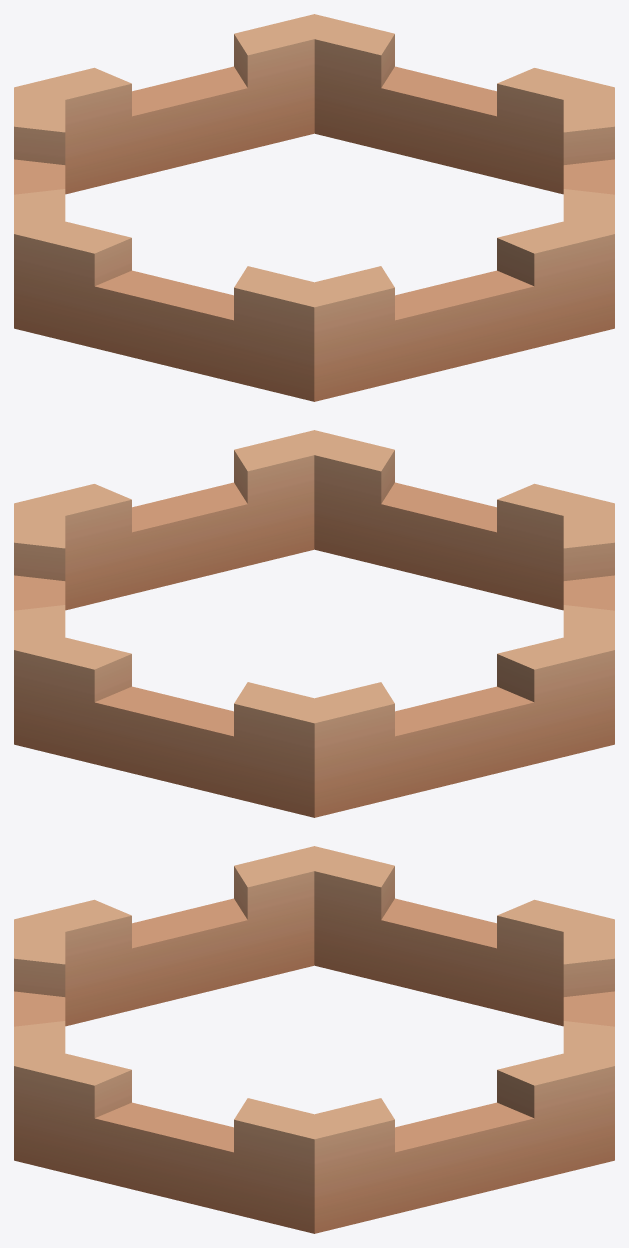
The model's file is kenney-castle-tower-hexagon-top.glb.
3 views of the same model, one above another, from view 1: azimuth 30°, elevation 25°; view 2: azimuth 150°, elevation 25°; view 3: azimuth 270°, elevation 25° (orthographic).
Visible parts, largest first — view 1: tower-hexagon-top; view 2: tower-hexagon-top; view 3: tower-hexagon-top.
Boxes of the visible parts, x1,y1,x2,y2 form: tower-hexagon-top: (14, 14, 614, 401); tower-hexagon-top: (14, 430, 614, 817); tower-hexagon-top: (14, 846, 614, 1233).
Size of the model in its own units: 0.864 by 0.1299 by 0.7483.
1 material, 1 textured.
